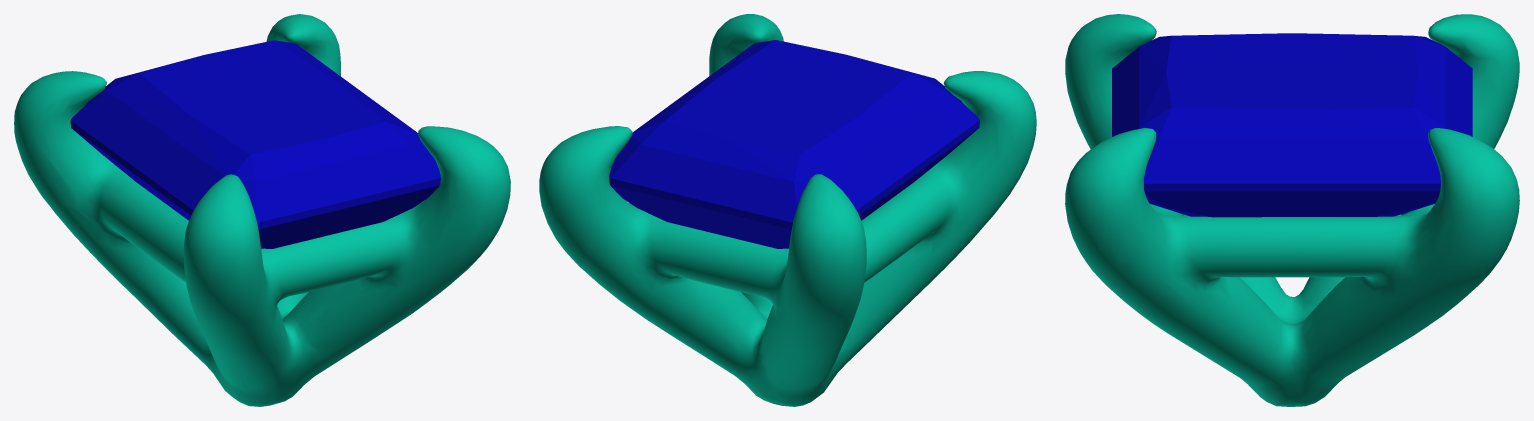
Rendered from Radiant.glb.
3 renders of one model, left to right at view 1: azimuth 30°, elevation 25°; view 2: azimuth 150°, elevation 25°; view 3: azimuth 270°, elevation 25°, orthographic. The views are drawn at different scales.
Parts seen in each view (by area): view 1: /GSMOD388300- CLAW PRONG_Radiant_IJ.3dm, Diamond_Radiant; view 2: /GSMOD388300- CLAW PRONG_Radiant_IJ.3dm, Diamond_Radiant; view 3: /GSMOD388300- CLAW PRONG_Radiant_IJ.3dm, Diamond_Radiant.
Boxes of the visible parts, <box> form: /GSMOD388300- CLAW PRONG_Radiant_IJ.3dm: <box>14,14,510,406</box>; Diamond_Radiant: <box>70,40,440,248</box>; /GSMOD388300- CLAW PRONG_Radiant_IJ.3dm: <box>539,14,1036,406</box>; Diamond_Radiant: <box>609,40,979,248</box>; /GSMOD388300- CLAW PRONG_Radiant_IJ.3dm: <box>1065,14,1519,406</box>; Diamond_Radiant: <box>1112,33,1472,217</box>.
Size of the model in its own units: 7.72 by 7.05 by 8.83.
